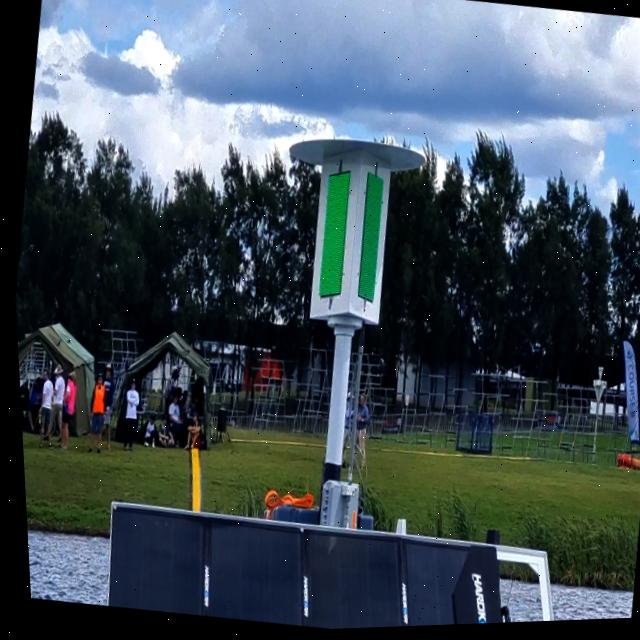led: (306, 165, 392, 318), (304, 164, 361, 308), (341, 163, 394, 315)
